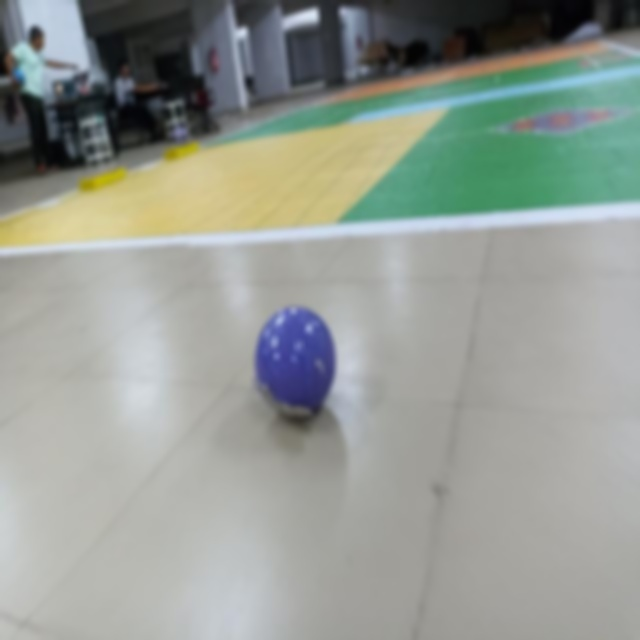purple_ball: (260, 308, 332, 411)
